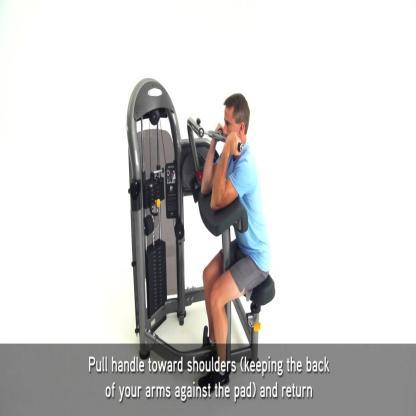arm curl machine: (126, 117, 275, 343)
